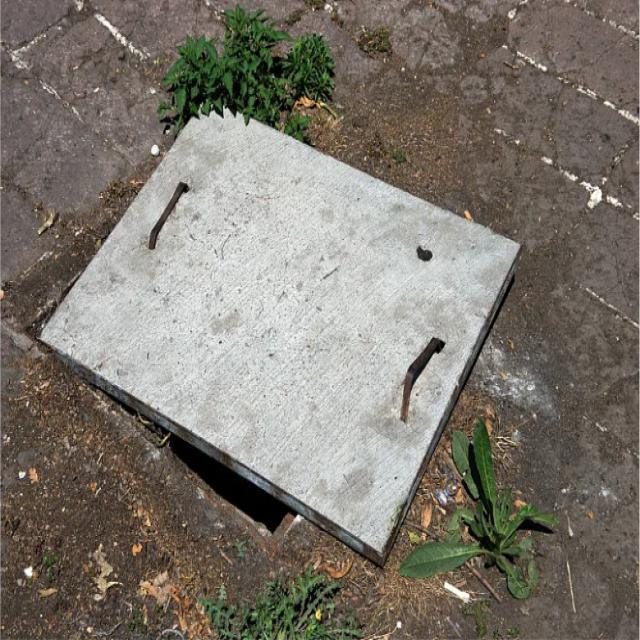manhole: (41, 110, 520, 564)
